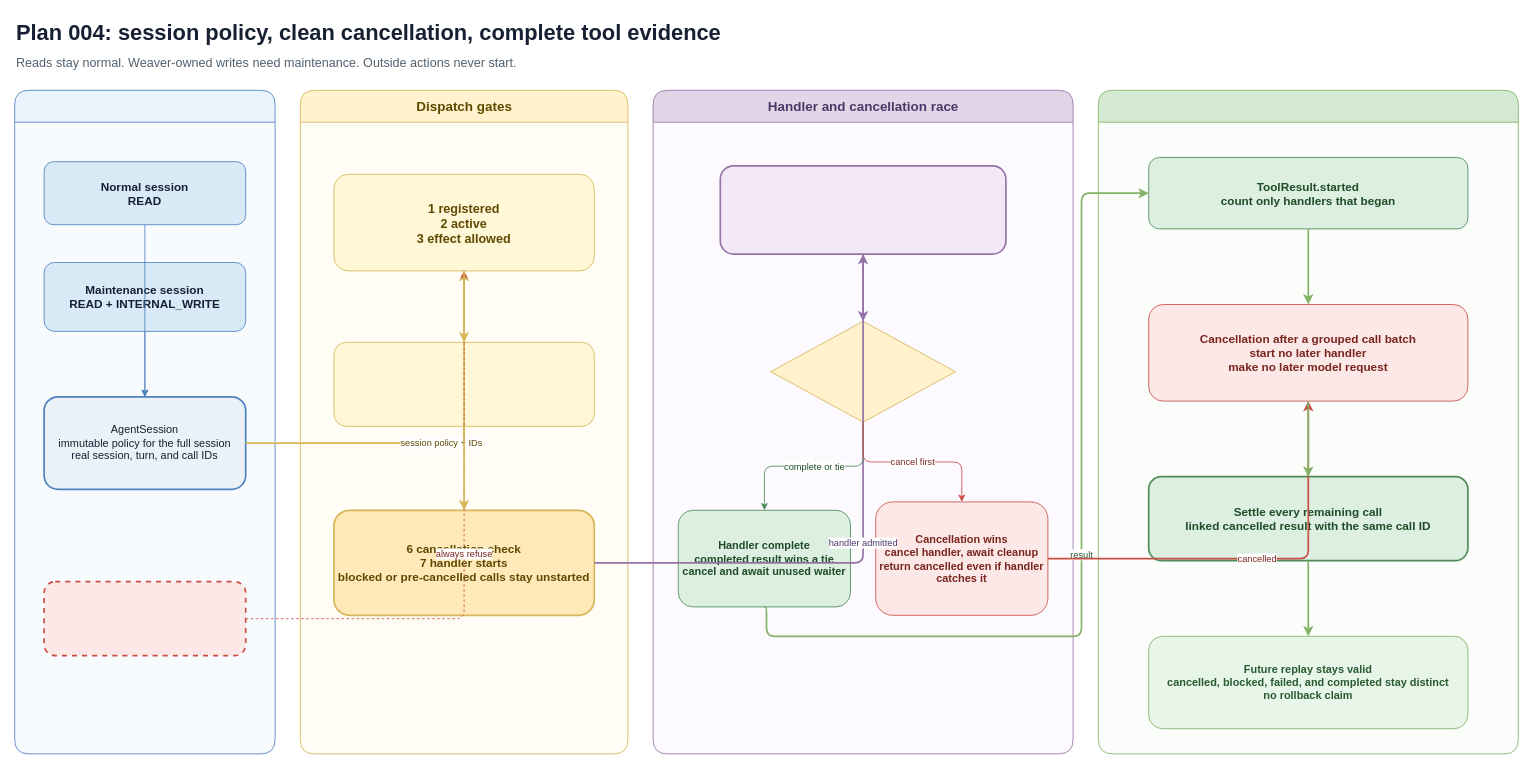
The diagram is 1533 pixels wide and 769 high, and some of its shapes have lost their labels. The box of each missing label's shape, as (x1, y1, x2, y2) in pixels:
4 valid JSON 5 JSON object: (333, 341, 594, 426)
EXTERNAL_EFFECT rejected by policy construction: (43, 580, 246, 656)
Named tasks handler task + cancellation waiter wait for first completion: (719, 165, 1006, 255)
Session policy: (14, 89, 275, 754)
Turn settlement: (1097, 89, 1518, 754)
What is observable?: (770, 320, 956, 422)
